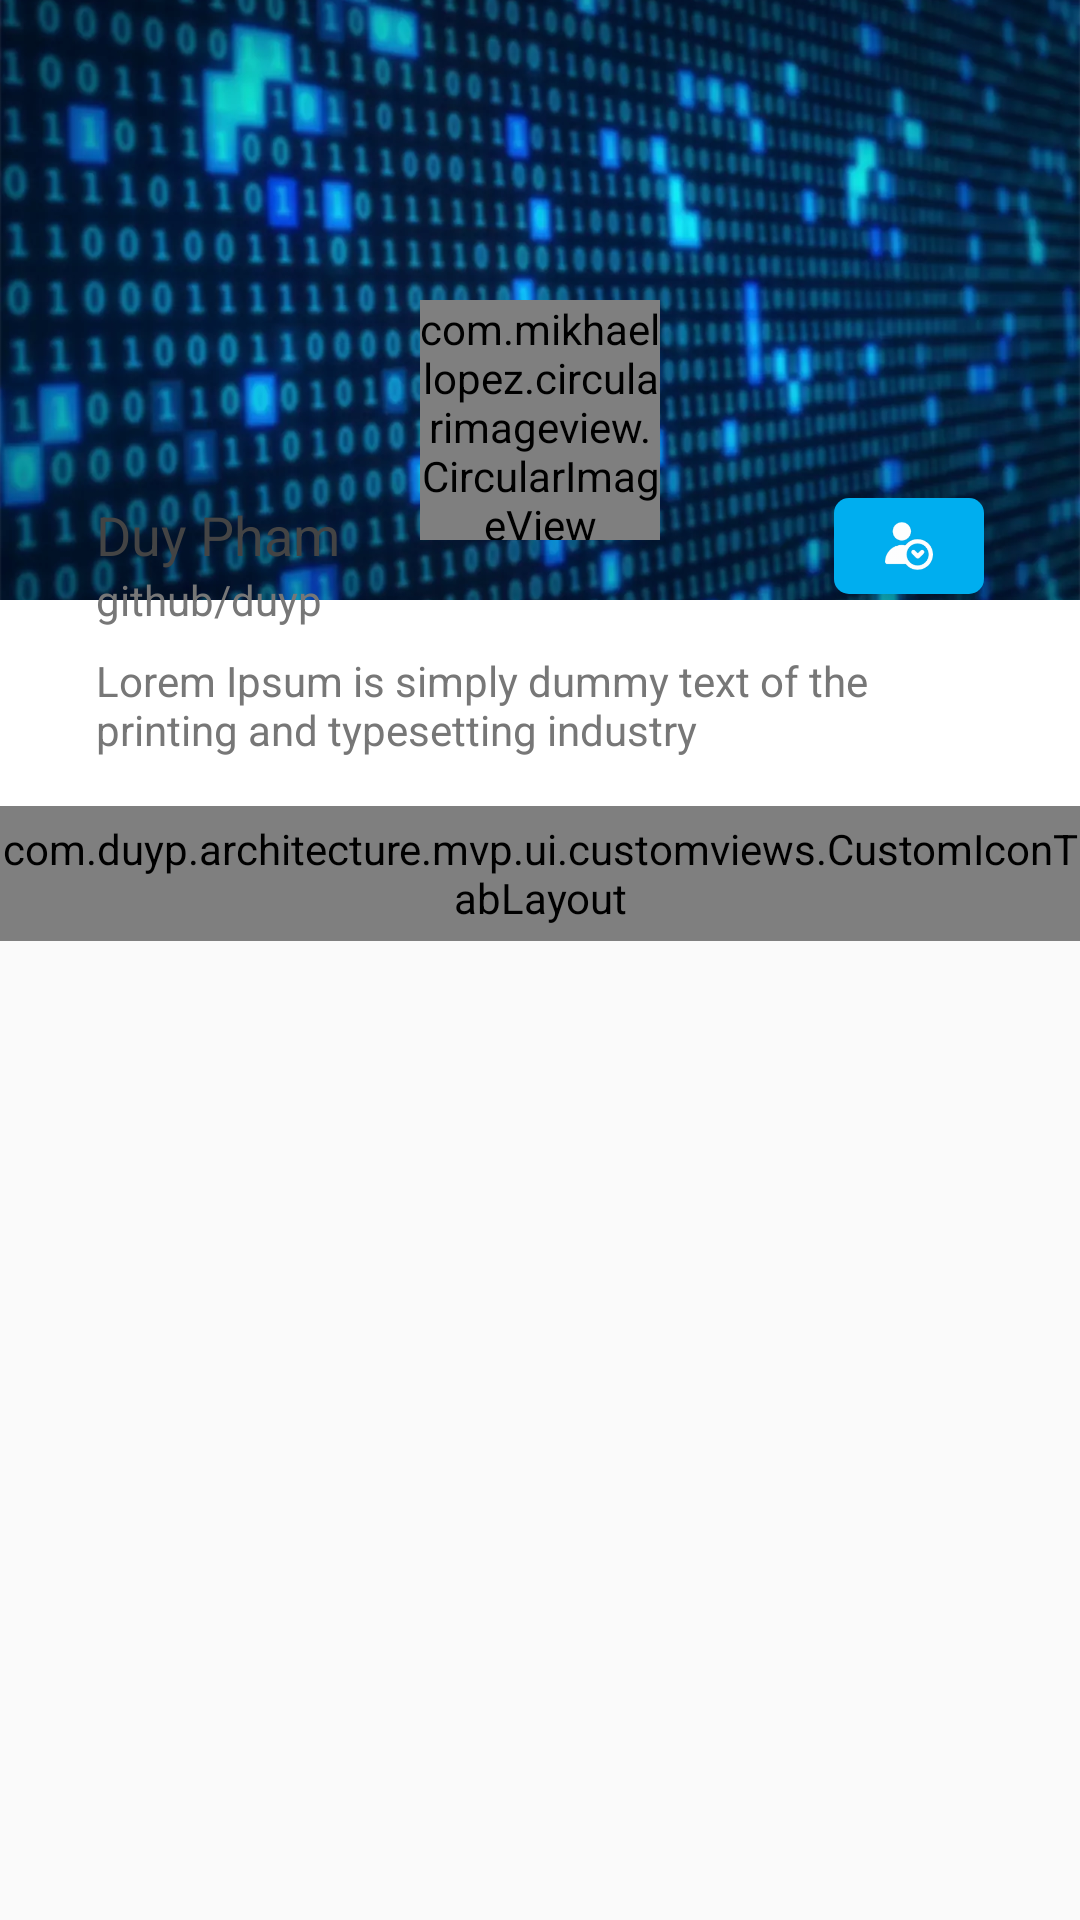

Locate icon controls on the screen. Image size 1080 × 1920, boxes as (x1, y1, x2, y2).
followed: (834, 498, 984, 594)
